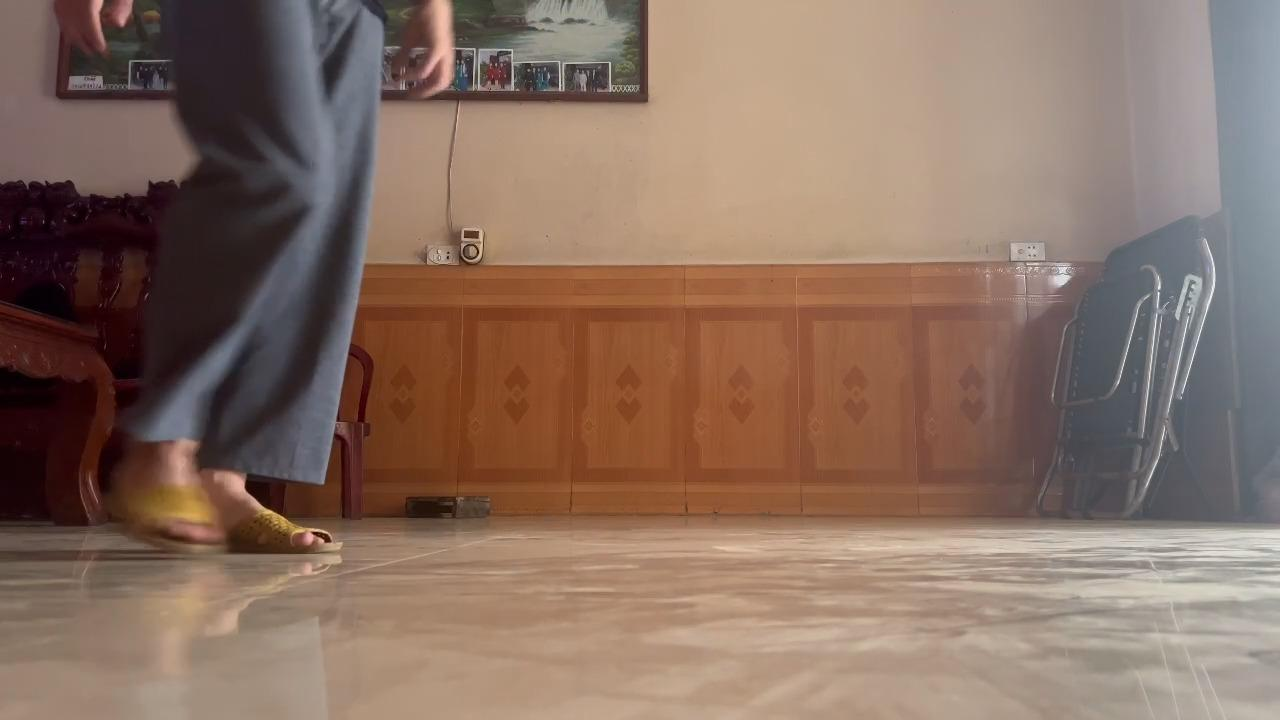no-boot: (99, 456, 230, 568), (232, 492, 352, 562)
